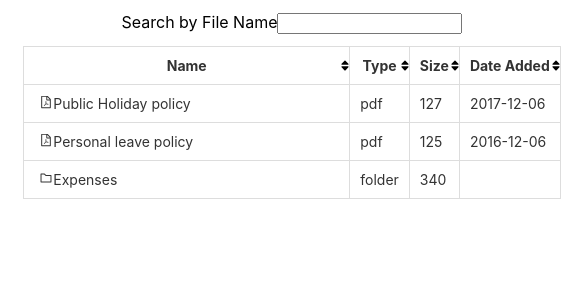
Test: Documents › opens Expenses folder
Step 1. Click the text "Expenses" → [187, 180], box [24,160,350,198]
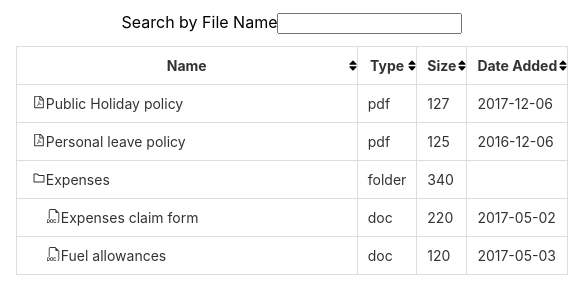
Now the text "Expenses claim form" is shown, box [16,198,357,236]
Now the text "Fuel allowances" is shown, box [16,236,357,274]
